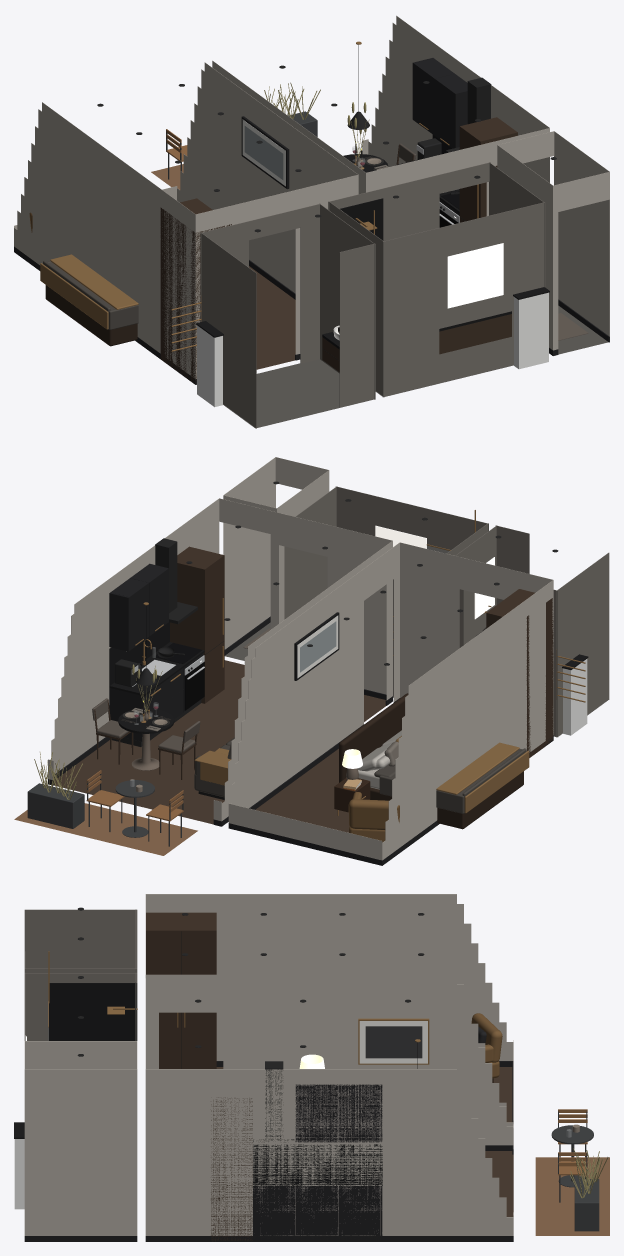
File: unit-2.A-noir.glb
The picture shows the model from 3 angles, top to bottom: view 1: azimuth 30°, elevation 25°; view 2: azimuth 150°, elevation 25°; view 3: azimuth 270°, elevation 25°; orthographic projection. The views are drawn at different scales.
Parts seen in each view (by area): view 1: int-wall, int-bathWall, int-joineryTall, int-joinery, int-bathFloor, int-whiteGloss, int-floor, int-ledStrip, int-bedThrow, int-matteBlack, int-headboard, int-worktop (+8 smaller); view 2: int-wall, int-bathWall, int-floor, int-joinery, int-joineryTall, int-deck, int-headboard, int-outdoor, int-matteBlack, int-bedThrow, int-worktop, int-armchair (+19 smaller); view 3: int-wall, int-joinery, int-joineryTall, int-bathWall, int-showerWall, int-splash, int-deck, int-outdoor, int-art:5:2, int-floor, int-matteBlack, int-passepartout (+5 smaller).
Part boxes in pixels (<box>): int-wall: <box>14,15,609,379</box>; int-bathWall: <box>200,162,545,428</box>; int-joineryTall: <box>160,117,517,383</box>; int-joinery: <box>14,58,609,384</box>; int-bathFloor: <box>223,359,513,428</box>; int-whiteGloss: <box>197,292,548,407</box>; int-floor: <box>249,266,295,369</box>; int-ledStrip: <box>447,216,503,308</box>; int-bedThrow: <box>40,254,138,329</box>; int-matteBlack: <box>347,77,491,194</box>; int-headboard: <box>45,285,137,346</box>; int-worktop: <box>196,154,549,349</box>; int-wall: <box>48,457,553,860</box>; int-bathWall: <box>284,486,609,737</box>; int-floor: <box>54,660,386,832</box>; int-joinery: <box>48,563,553,865</box>; int-joineryTall: <box>170,546,553,757</box>; int-deck: <box>14,803,197,855</box>; int-headboard: <box>339,693,523,829</box>; int-outdoor: <box>27,774,183,846</box>; int-matteBlack: <box>111,538,201,746</box>; int-bedThrow: <box>436,742,529,813</box>; int-worktop: <box>109,631,588,733</box>; int-armchair: <box>348,792,399,842</box>; int-wall: <box>24,894,513,1235</box>; int-joinery: <box>24,1061,513,1241</box>; int-joineryTall: <box>146,912,252,1241</box>; int-bathWall: <box>24,909,137,1040</box>; int-showerWall: <box>48,982,137,1040</box>; int-splash: <box>253,1144,382,1183</box>; int-deck: <box>535,1157,609,1235</box>; int-outdoor: <box>551,1111,599,1231</box>; int-art:5:2: <box>365,1026,422,1058</box>; int-floor: <box>216,1067,513,1216</box>; int-matteBlack: <box>253,1061,382,1241</box>; int-passepartout: <box>359,1021,427,1063</box>.
Size of the model in its own units: 6.37 by 2.8 by 8.41.
